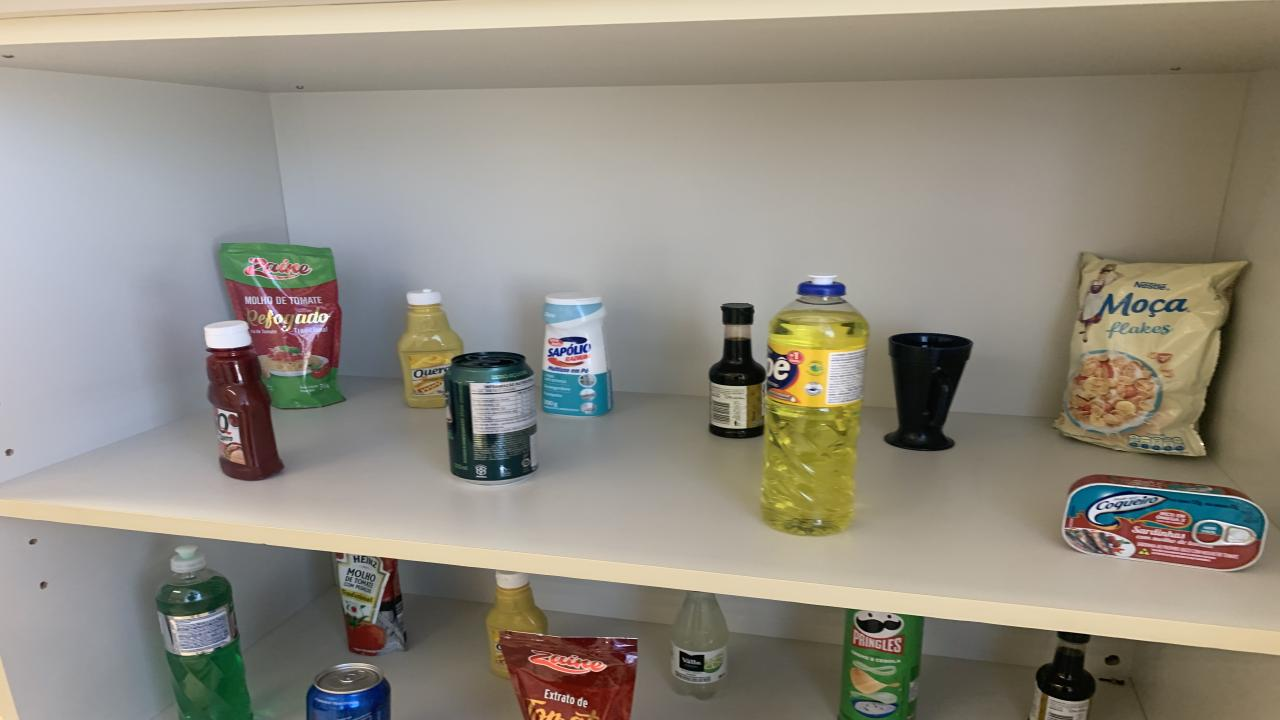Cleaner-Cleanup_Items: (542, 292, 612, 416)
Detergent-Cleanup_Items: (760, 278, 868, 534), (155, 546, 252, 720)
English_Sauce-Pantry_Items: (710, 304, 765, 439), (1030, 632, 1095, 720)
Flakes-Snacks: (1055, 253, 1248, 456)
Guarana_Can-Drinks: (445, 352, 538, 484)
Ketchup-Pantry_Items: (208, 322, 282, 480)
Mustard-Pantry_Items: (398, 289, 462, 409), (485, 570, 548, 679)
Pringles-Snacks: (840, 609, 922, 720)
Soda-Drinks: (672, 591, 730, 699)
Tomato_Sauce-Pantry_Items: (220, 244, 342, 409), (500, 632, 638, 720), (335, 553, 408, 656)
Tonic-Drinks: (308, 662, 390, 720)
Tuna_Can-Pantry_Items: (1062, 474, 1268, 570)
